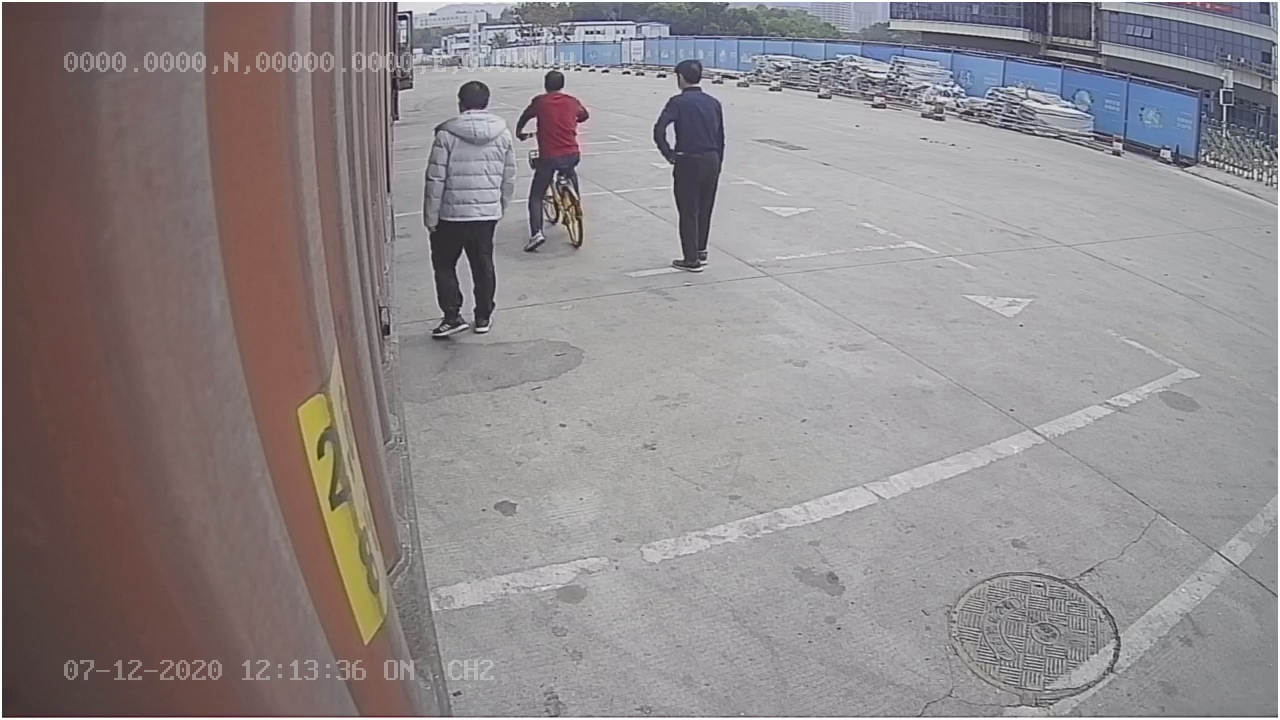person: (422, 80, 515, 340), (648, 51, 727, 275)
